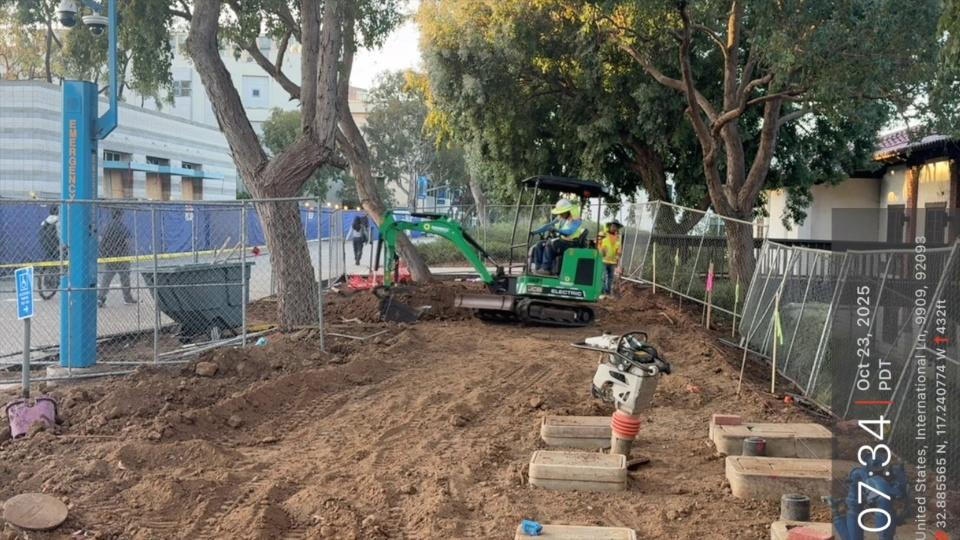Exacavator: (371, 173, 613, 328)
